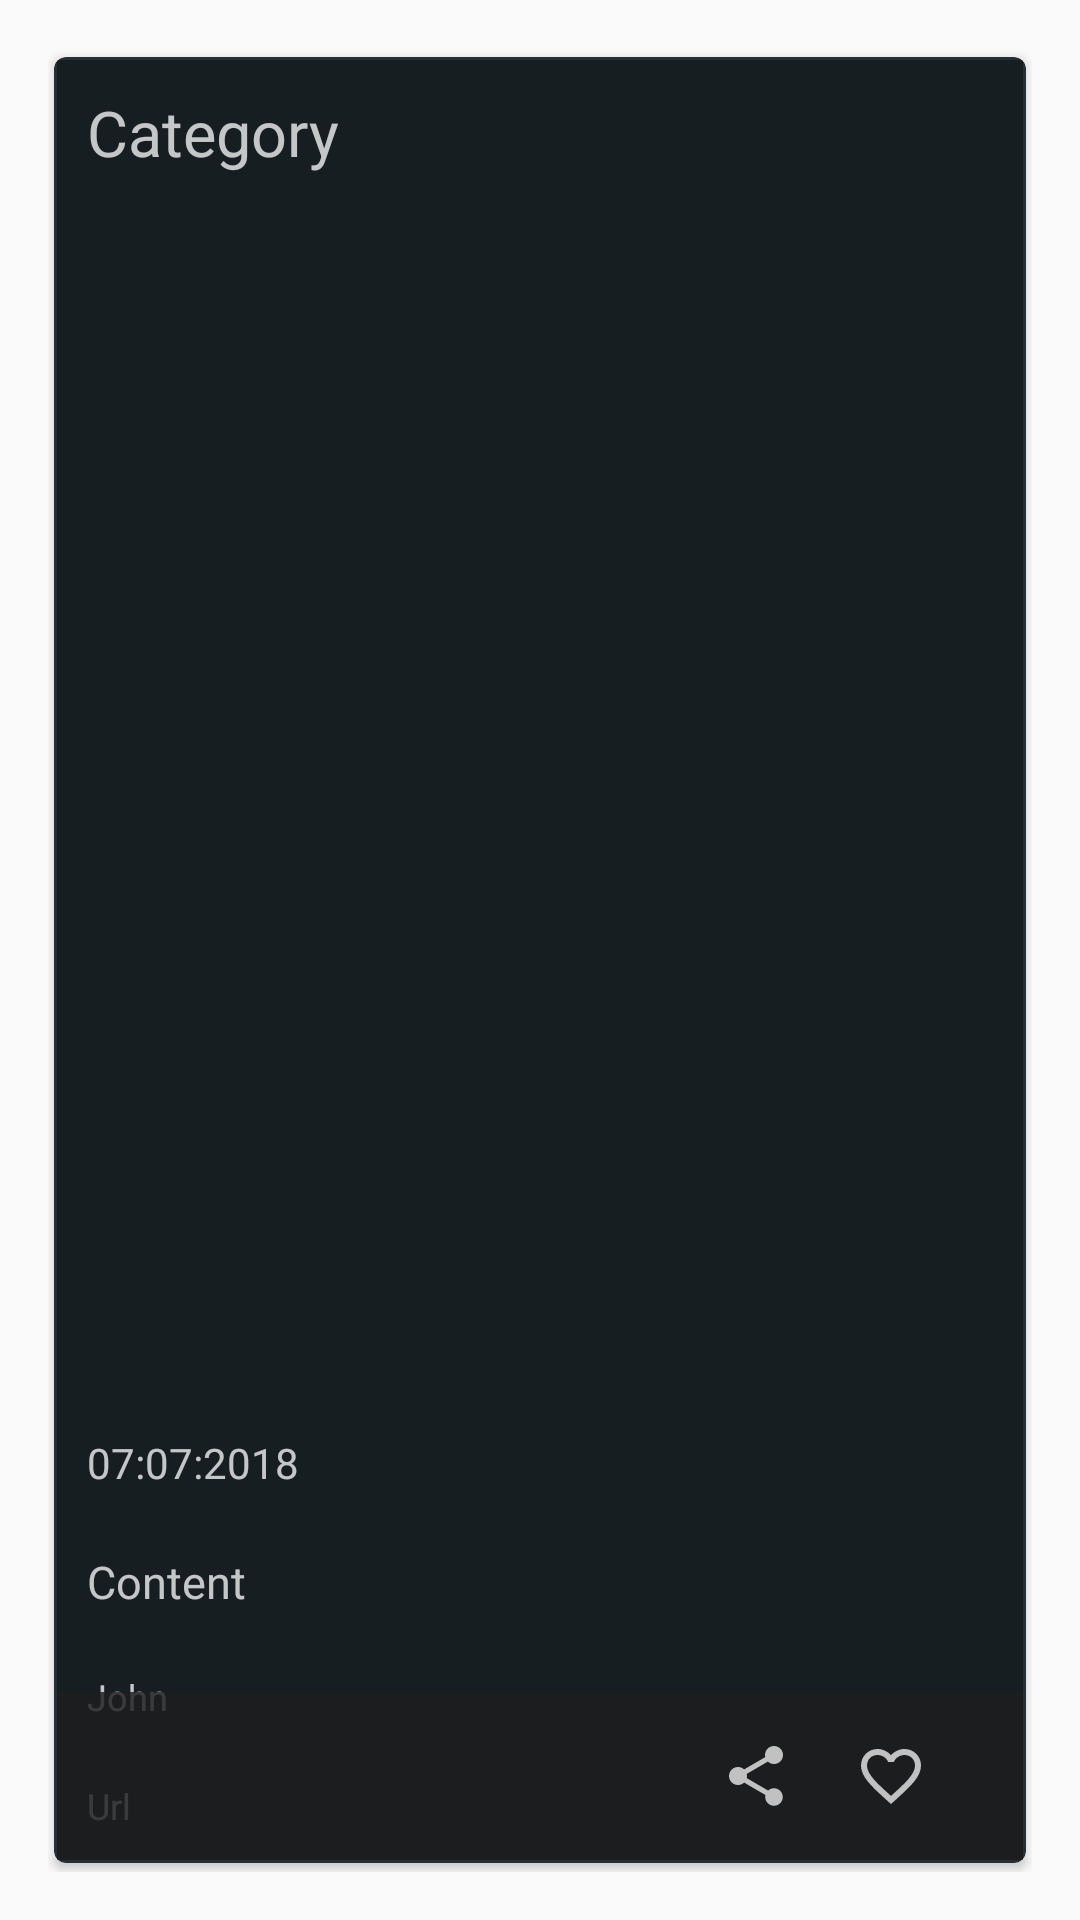

Where to tap for icons on this 1080w x 1920h app screen, as (x,y):
Favorite: (891,1776)
Share: (756,1776)
